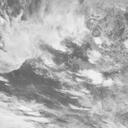cyclone: (36, 24, 97, 81)
